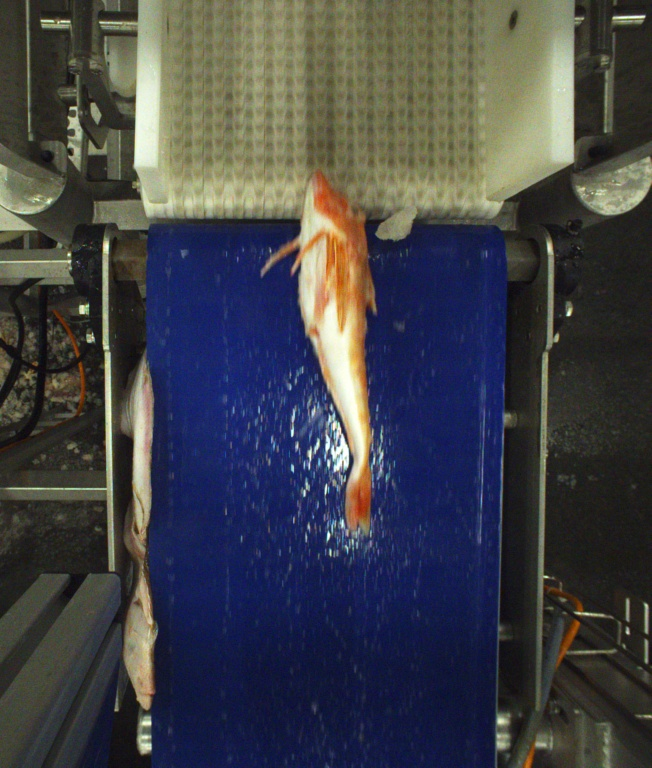GUU: (259, 171, 375, 537)
